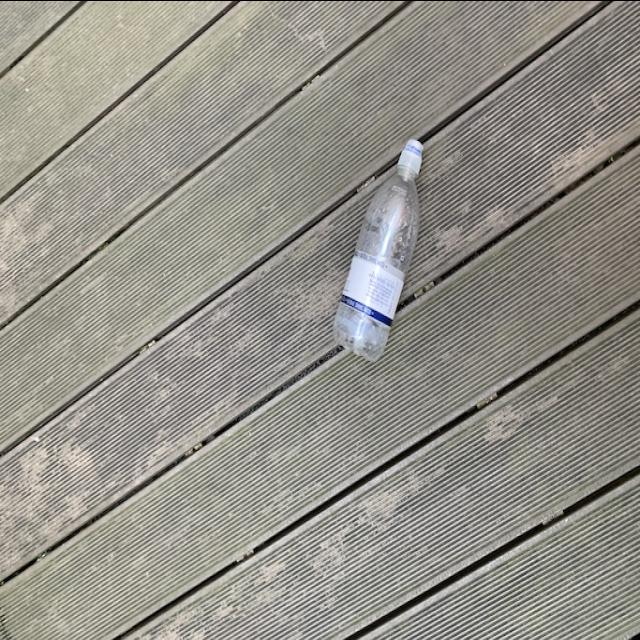PET: (328, 128, 431, 366)
